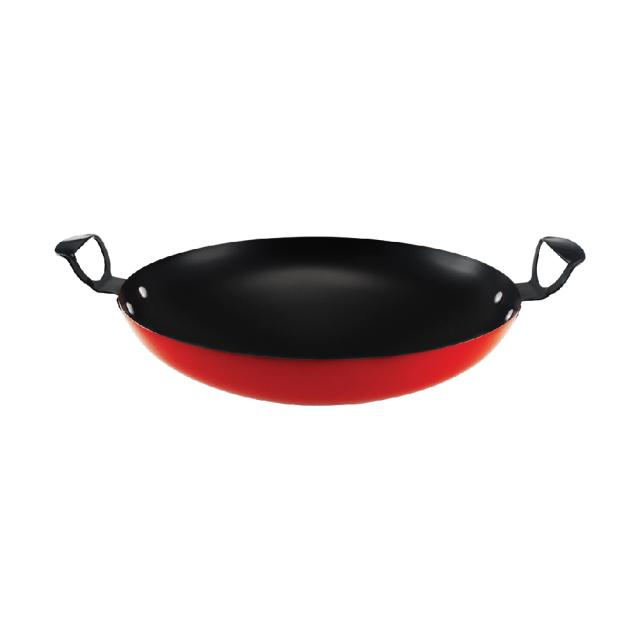Wajan: (40, 190, 611, 436)
